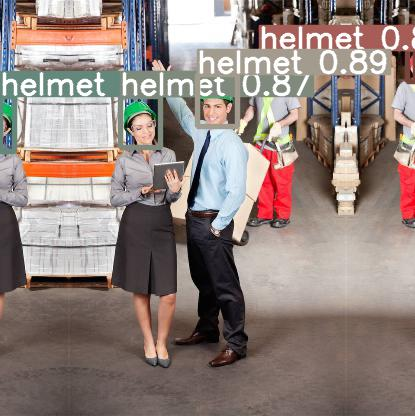helmet: (197, 74, 237, 126), (120, 96, 160, 147), (259, 50, 284, 81), (0, 96, 14, 151), (407, 49, 415, 81)
